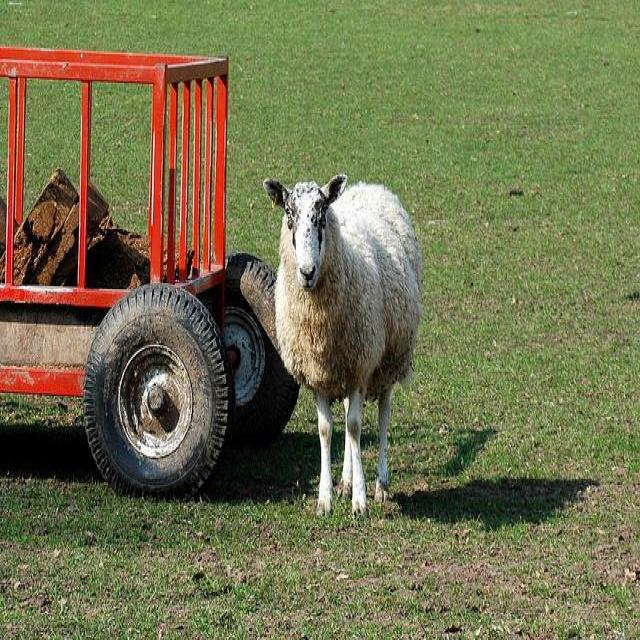Sheep: (262, 176, 425, 529)
